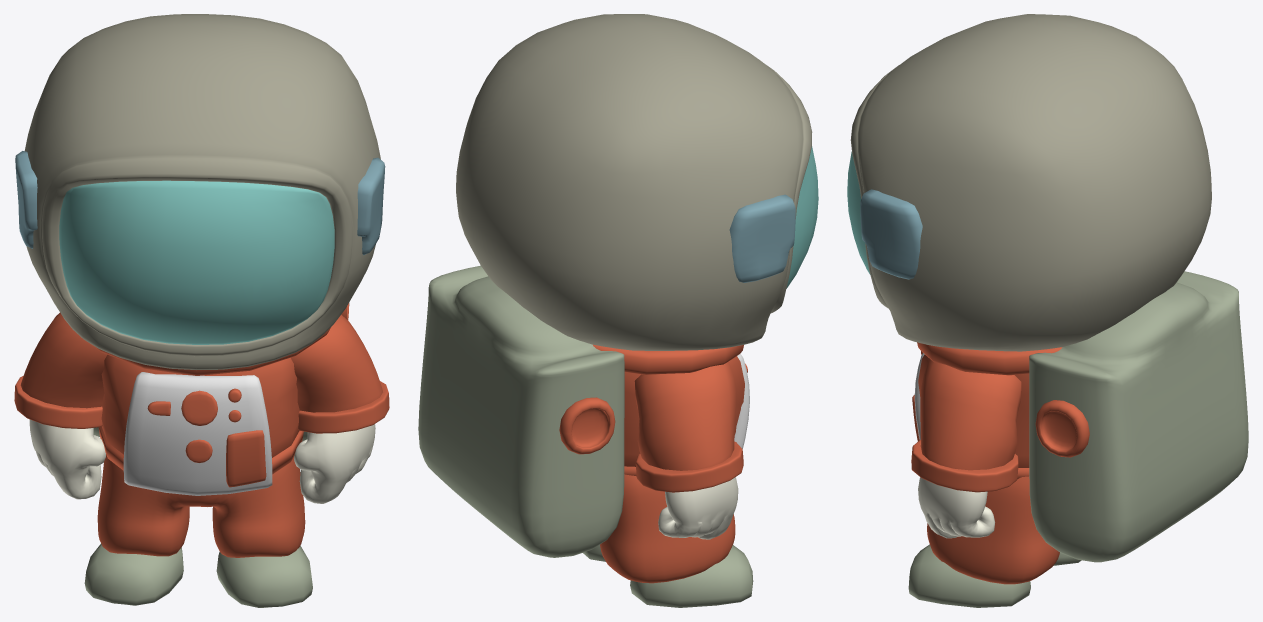
File: Astronauta.fbx
The picture shows the model from 3 angles, left to right: view 1: azimuth 30°, elevation 25°; view 2: azimuth 150°, elevation 25°; view 3: azimuth 270°, elevation 25°; orthographic projection.
Parts seen in each view (by area): view 1: kaedim_mesh_12_Mesh.035, kaedim_mesh_13_Mesh.036, kaedim_mesh_7_Mesh.030, kaedim_mesh_5_Mesh.028, kaedim_mesh_8_Mesh.031, kaedim_mesh_9_Mesh.032, kaedim_mesh_21_Mesh.044, kaedim_mesh_6_Mesh.029, kaedim_mesh_20_Mesh.043, kaedim_mesh_0.002_Mesh.023, kaedim_mesh_16_Mesh.039, kaedim_mesh_2.002_Mesh.025 (+8 smaller); view 2: kaedim_mesh_12_Mesh.035, kaedim_mesh_4_Mesh.027, kaedim_mesh_21_Mesh.044, kaedim_mesh_7_Mesh.030, kaedim_mesh_17_Mesh.040, kaedim_mesh_6_Mesh.029, kaedim_mesh_16_Mesh.039, kaedim_mesh_10.002_Mesh.033, kaedim_mesh_18_Mesh.041, kaedim_mesh_19_Mesh.042, kaedim_mesh_13_Mesh.036, kaedim_mesh_9_Mesh.032 (+1 smaller); view 3: kaedim_mesh_12_Mesh.035, kaedim_mesh_4_Mesh.027, kaedim_mesh_8_Mesh.031, kaedim_mesh_7_Mesh.030, kaedim_mesh_1_Mesh.024, kaedim_mesh_20_Mesh.043, kaedim_mesh_0.002_Mesh.023, kaedim_mesh_2.002_Mesh.025, kaedim_mesh_10.002_Mesh.033, kaedim_mesh_3_Mesh.026, kaedim_mesh_9_Mesh.032, kaedim_mesh_13_Mesh.036.
Boxes of the visible parts, left/top/right/bottom form: kaedim_mesh_12_Mesh.035: left=24, top=14, right=380, bottom=369; kaedim_mesh_13_Mesh.036: left=59, top=180, right=334, bottom=344; kaedim_mesh_7_Mesh.030: left=97, top=454, right=305, bottom=557; kaedim_mesh_5_Mesh.028: left=123, top=372, right=272, bottom=495; kaedim_mesh_8_Mesh.031: left=291, top=314, right=382, bottom=412; kaedim_mesh_9_Mesh.032: left=101, top=354, right=299, bottom=457; kaedim_mesh_21_Mesh.044: left=20, top=312, right=107, bottom=408; kaedim_mesh_6_Mesh.029: left=84, top=543, right=183, bottom=605; kaedim_mesh_20_Mesh.043: left=216, top=545, right=312, bottom=607; kaedim_mesh_0.002_Mesh.023: left=294, top=424, right=375, bottom=503; kaedim_mesh_16_Mesh.039: left=29, top=419, right=105, bottom=499; kaedim_mesh_2.002_Mesh.025: left=298, top=381, right=389, bottom=433; kaedim_mesh_12_Mesh.035: left=456, top=14, right=812, bottom=350; kaedim_mesh_4_Mesh.027: left=418, top=265, right=624, bottom=557; kaedim_mesh_21_Mesh.044: left=634, top=361, right=735, bottom=470; kaedim_mesh_7_Mesh.030: left=600, top=474, right=735, bottom=583; kaedim_mesh_17_Mesh.040: left=729, top=194, right=795, bottom=282; kaedim_mesh_6_Mesh.029: left=630, top=545, right=753, bottom=607; kaedim_mesh_16_Mesh.039: left=658, top=477, right=738, bottom=539; kaedim_mesh_10.002_Mesh.033: left=593, top=344, right=743, bottom=374; kaedim_mesh_18_Mesh.041: left=635, top=441, right=743, bottom=492; kaedim_mesh_19_Mesh.042: left=559, top=397, right=615, bottom=454; kaedim_mesh_13_Mesh.036: left=786, top=146, right=818, bottom=288; kaedim_mesh_9_Mesh.032: left=624, top=356, right=744, bottom=466; kaedim_mesh_12_Mesh.035: left=850, top=14, right=1211, bottom=351; kaedim_mesh_4_Mesh.027: left=1029, top=271, right=1248, bottom=562; kaedim_mesh_8_Mesh.031: left=920, top=359, right=1021, bottom=470; kaedim_mesh_7_Mesh.030: left=927, top=476, right=1059, bottom=584; kaedim_mesh_1_Mesh.024: left=860, top=189, right=922, bottom=279; kaedim_mesh_20_Mesh.043: left=908, top=544, right=1030, bottom=607; kaedim_mesh_0.002_Mesh.023: left=918, top=477, right=995, bottom=538; kaedim_mesh_2.002_Mesh.025: left=911, top=439, right=1018, bottom=492; kaedim_mesh_10.002_Mesh.033: left=917, top=342, right=1062, bottom=375; kaedim_mesh_3_Mesh.026: left=1035, top=400, right=1089, bottom=457; kaedim_mesh_9_Mesh.032: left=918, top=354, right=1029, bottom=467; kaedim_mesh_13_Mesh.036: left=847, top=151, right=870, bottom=274.
Size of the model in its own units: 133 by 200 by 135.
